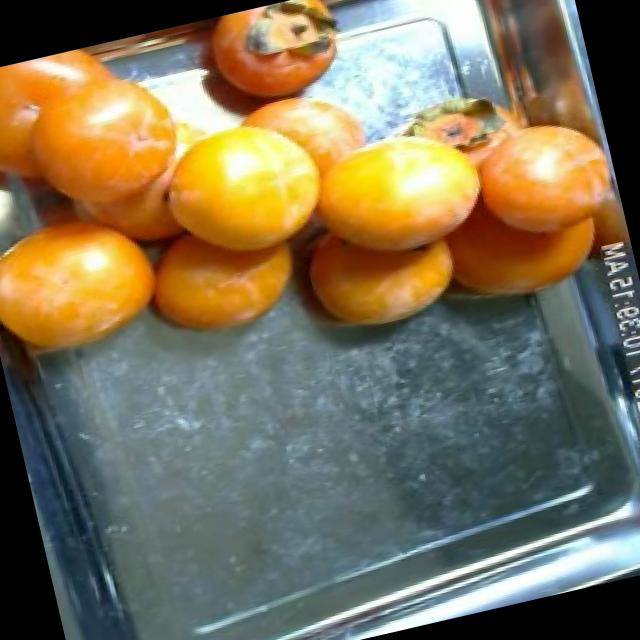Fruit: (265, 172, 483, 364)
